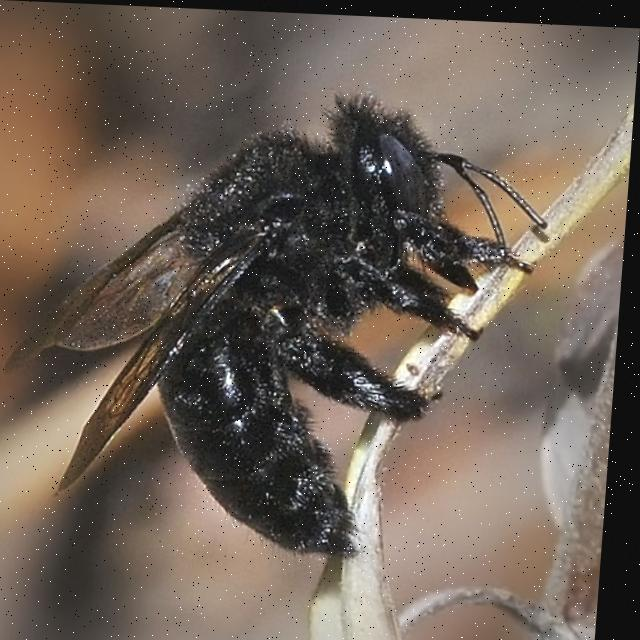Xylocopa: (0, 61, 571, 568)
